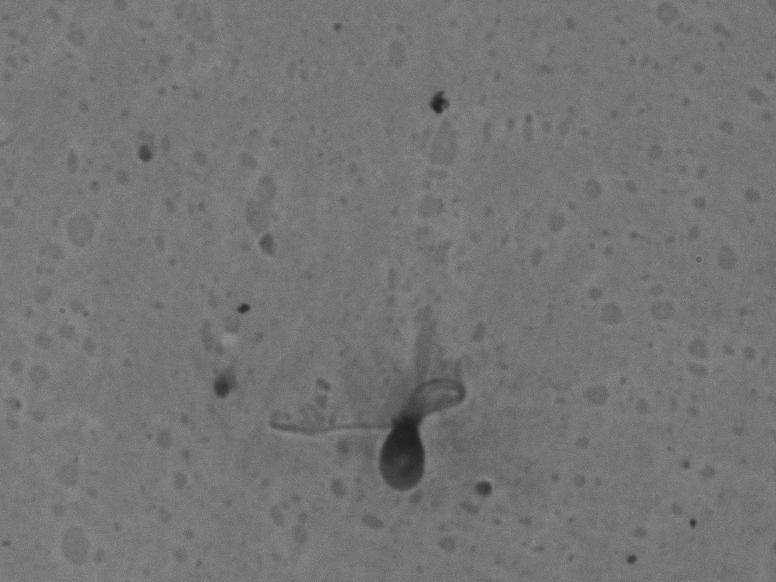Abnormal: (238, 320, 497, 526)
